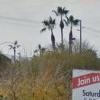Palm tree: (36, 0, 83, 53)
